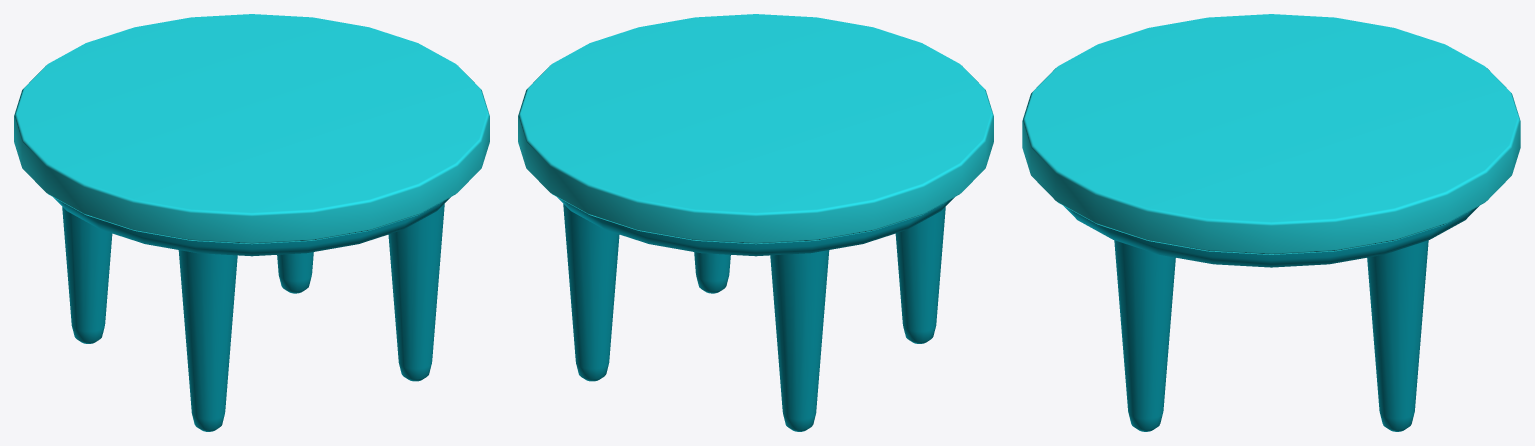
Rendered from Store_1_Table_1.glb.
3 views of the same model, side by side, from view 1: azimuth 30°, elevation 25°; view 2: azimuth 150°, elevation 25°; view 3: azimuth 270°, elevation 25° (orthographic). The views are drawn at different scales.
Parts seen in each view (by area): view 1: Store_1_Table_1; view 2: Store_1_Table_1; view 3: Store_1_Table_1.
Boxes of the visible parts, <box> form: Store_1_Table_1: <box>14,14,489,431</box>; Store_1_Table_1: <box>518,14,993,431</box>; Store_1_Table_1: <box>1022,14,1520,431</box>.
Bounding box in the file's own units: 1.38 × 0.7865 × 1.38.
Materials: 1 (1 with a texture image).
